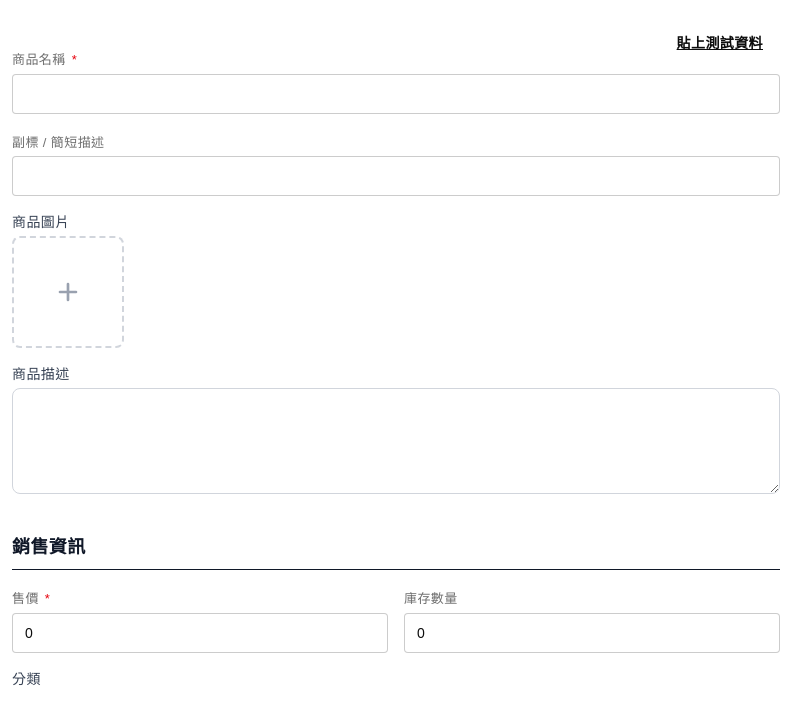
Test: ProductForm 元件 › 點擊貼上測試資料後會填入主要欄位
Click the button "貼上測試資料".
click(720, 43)  # box [660,23,780,63]
(page scrolled)
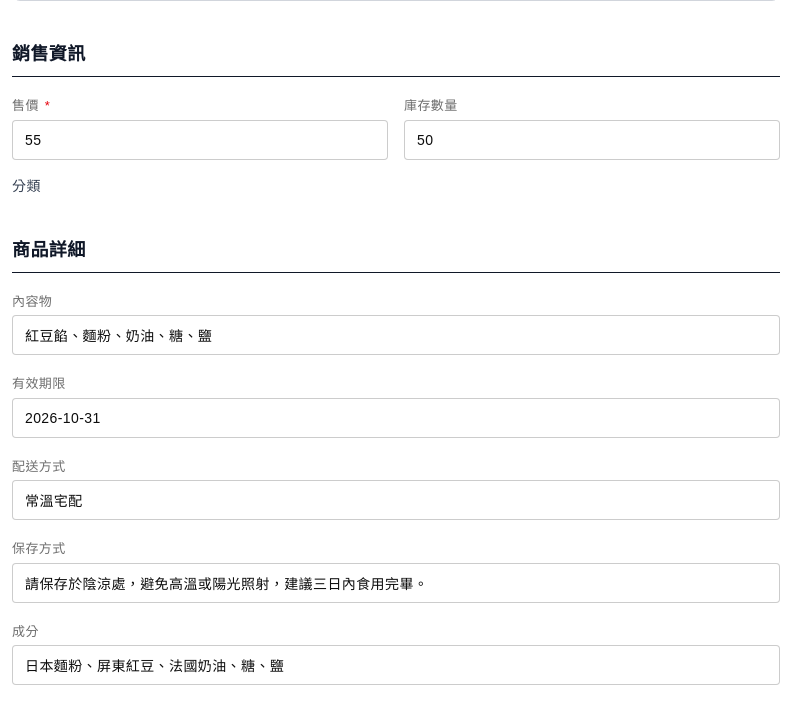
Expected: the number field labelled "售價 *" holds "55", [12,120,388,160]
Expected: the field labelled "內容物" holds "紅豆餡、麵粉、奶油、糖、鹽", [12,315,780,355]
